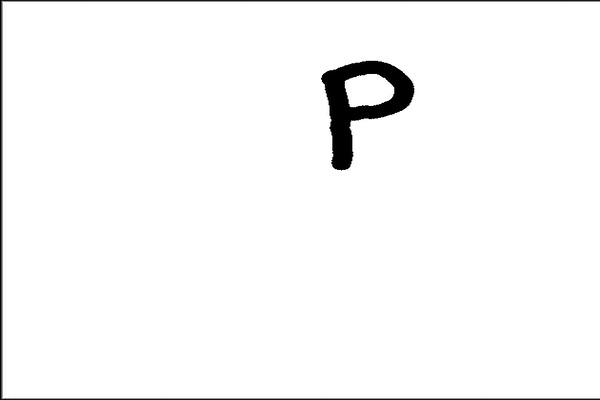P: (292, 44, 430, 180)
